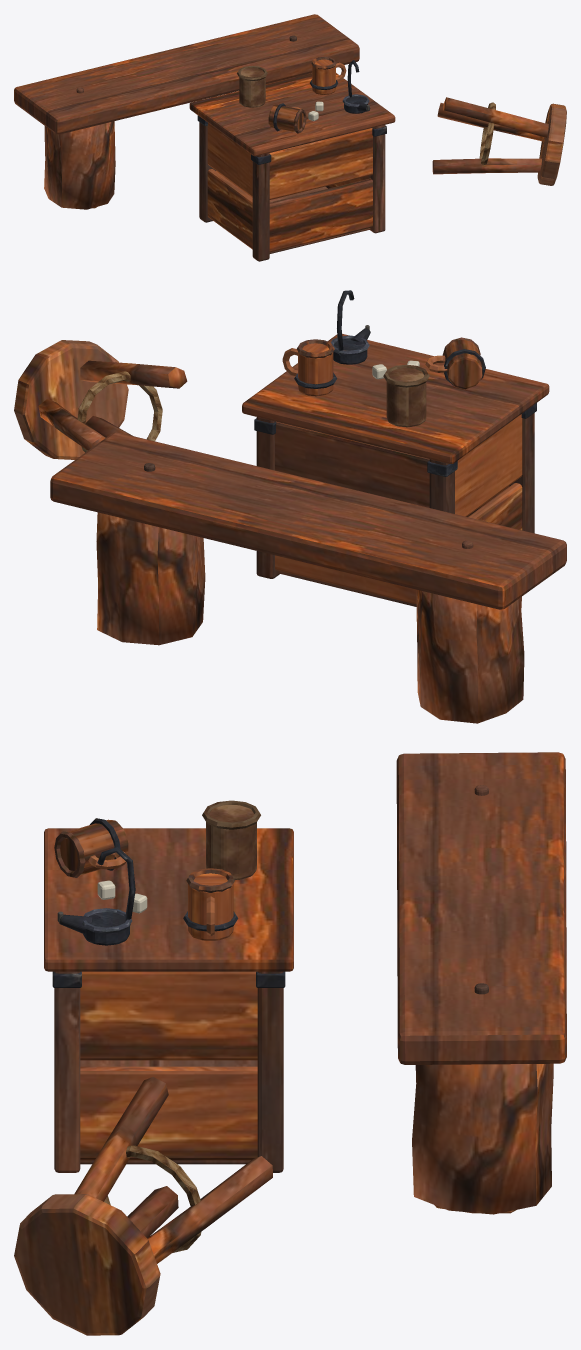
Rendered from mp_rest_corner.glb.
3 renders of one model, top to bottom at view 1: azimuth 30°, elevation 25°; view 2: azimuth 150°, elevation 25°; view 3: azimuth 270°, elevation 25°, orthographic. The views are drawn at different scales.
Parts seen in each view (by area): view 1: model; view 2: model; view 3: model.
Part boxes in pixels (x1=…): model: x1=14, y1=14, x2=566, y2=261; model: x1=14, y1=290, x2=566, y2=723; model: x1=14, y1=752, x2=566, y2=1335.
Bounding box in the file's own units: 1.85 × 0.6607 × 1.06.
20 materials, 18 textured.
